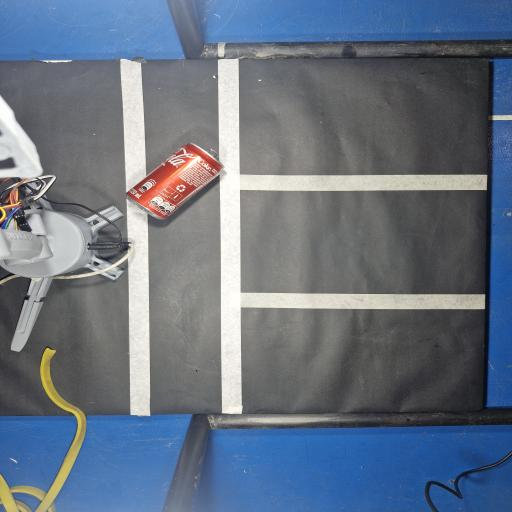lata: (127, 143, 223, 219)
